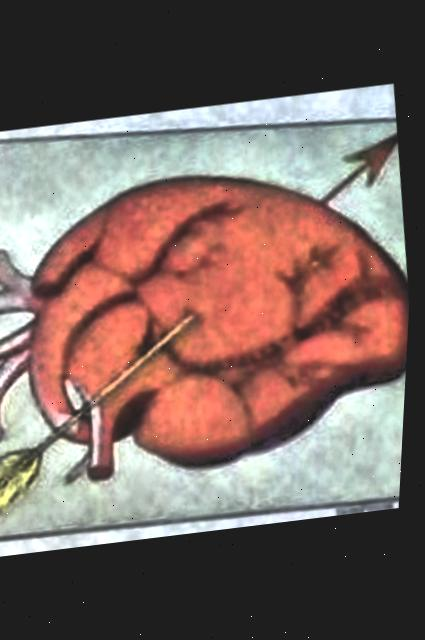El Corazon: (0, 119, 412, 541)
